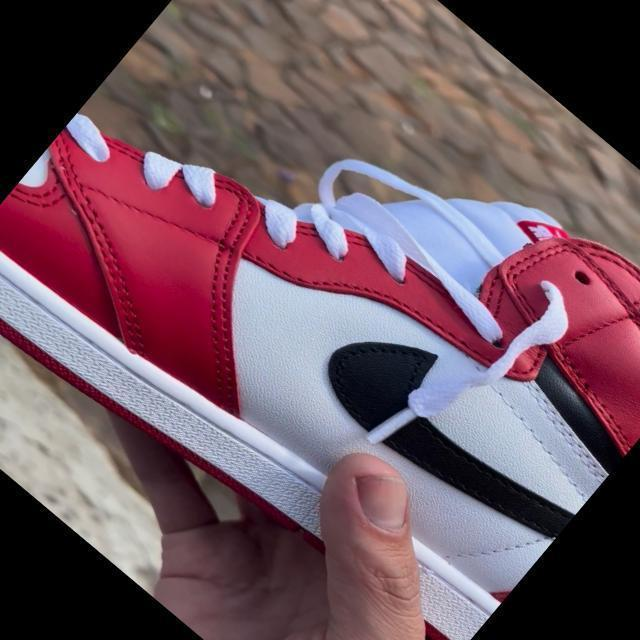nike original jordan 1: (0, 0, 582, 622)
